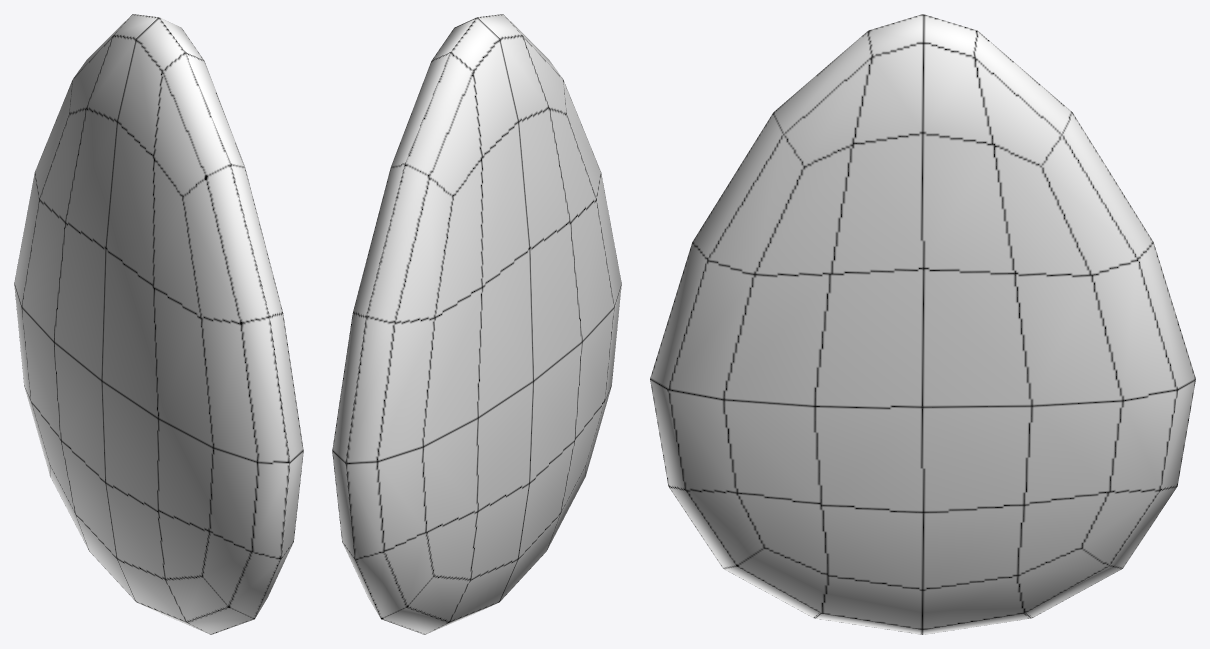
Rendered from huevo.obj.
The picture shows the model from 3 angles, left to right: view 1: azimuth 30°, elevation 25°; view 2: azimuth 150°, elevation 25°; view 3: azimuth 270°, elevation 25°; orthographic projection. The views are drawn at different scales.
Parts seen in each view (by area): view 1: Cube1; view 2: Cube1; view 3: Cube1.
Boxes of the visible parts, left/top/right/bottom form: Cube1: left=14, top=14, right=303, bottom=634; Cube1: left=332, top=14, right=621, bottom=634; Cube1: left=650, top=14, right=1195, bottom=634.
Size of the model in its own units: 0.4404 by 2.2 by 1.76.
Materials: 1 (1 with a texture image).
